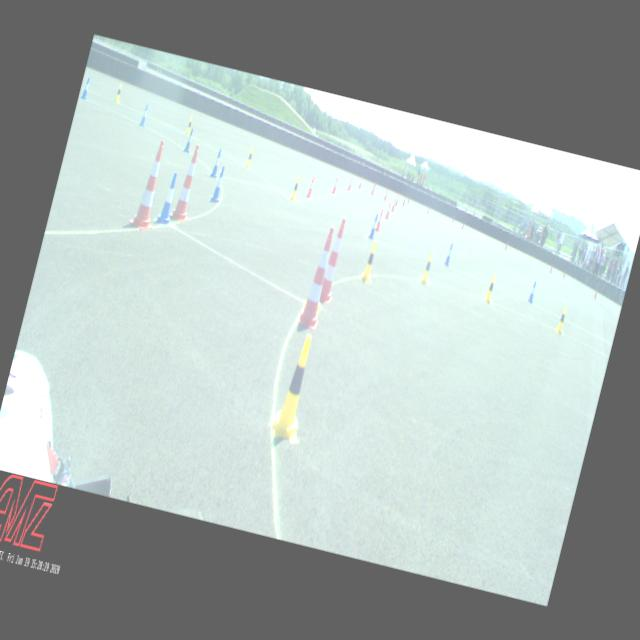blue_cone: (154, 170, 182, 226), (208, 165, 228, 203), (209, 148, 223, 177), (368, 212, 380, 239), (526, 280, 538, 304), (183, 128, 195, 152), (138, 103, 150, 127), (443, 242, 454, 266), (80, 77, 92, 99)
large_orange_cone: (296, 224, 341, 330), (128, 137, 174, 232), (168, 142, 206, 223), (317, 216, 351, 304)
orange_cone: (306, 175, 316, 198), (374, 209, 384, 231), (384, 202, 392, 218), (331, 176, 338, 193), (347, 176, 353, 190), (390, 198, 396, 212), (394, 193, 400, 206), (370, 183, 376, 195), (358, 176, 363, 188), (383, 189, 388, 200)
yellow_cone: (268, 330, 321, 440), (358, 240, 380, 282), (418, 250, 436, 286), (482, 273, 498, 303), (554, 304, 569, 334), (244, 146, 256, 168), (290, 176, 300, 200), (114, 82, 124, 102), (184, 116, 194, 136)
